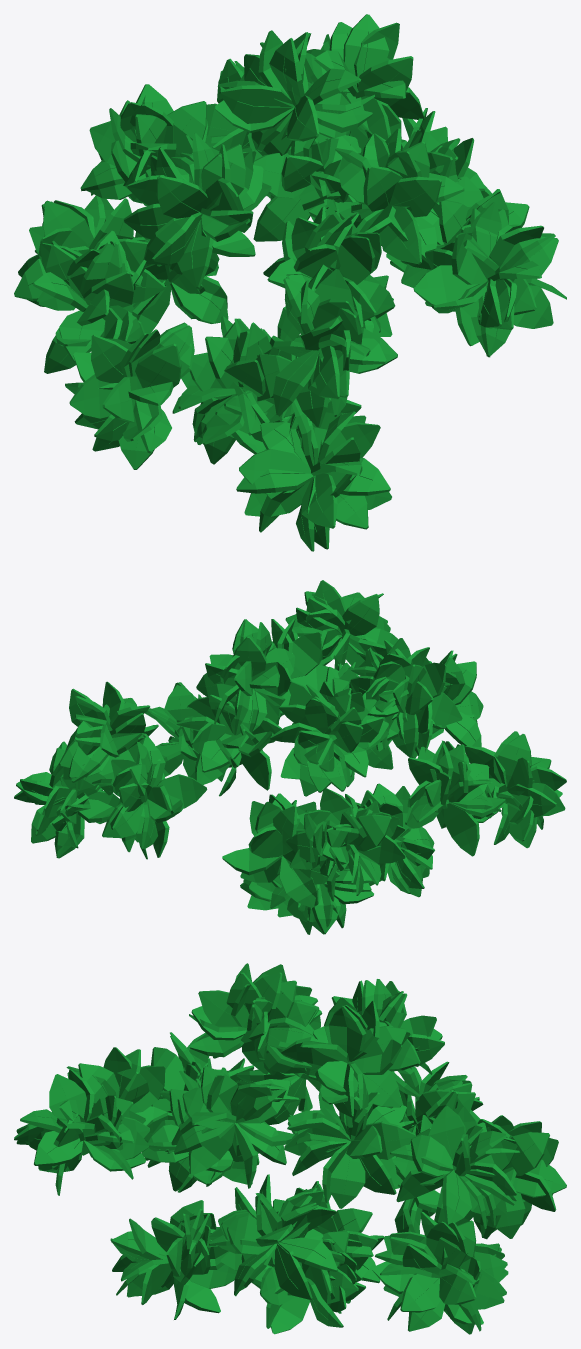
File: Arbol_2.glb
3 renders of one model, top to bottom at view 1: azimuth 30°, elevation 25°; view 2: azimuth 150°, elevation 25°; view 3: azimuth 270°, elevation 25°, orthographic. The views are drawn at different scales.
Parts seen in each view (by area): view 1: Plane.266, Plane.199, Plane.224, Plane.480, Plane.065, Plane.135, Plane.333, Plane.249, Plane.262, Plane.355, Plane.154, Plane.384 (+79 smaller); view 2: Plane.408, Plane.141, Plane.484, Plane.472, Plane.263, Plane.473, Plane.255, Plane.126, Plane.365, Plane.223, Plane.480, Plane.109 (+59 smaller); view 3: Plane.346, Plane.380, Plane.477, Plane.312, Plane.465, Plane.428, Plane.320, Plane.429, Plane.482, Plane.171, Plane.252, Plane.097 (+88 smaller).
Part boxes in pixels (x1=…): Plane.266: x1=219, y1=85, x2=292, y2=123; Plane.199: x1=156, y1=175, x2=207, y2=218; Plane.224: x1=253, y1=193, x2=309, y2=241; Plane.480: x1=273, y1=350, x2=318, y2=416; Plane.065: x1=343, y1=14, x2=389, y2=86; Plane.135: x1=380, y1=205, x2=421, y2=264; Plane.333: x1=135, y1=343, x2=181, y2=388; Plane.249: x1=389, y1=176, x2=441, y2=217; Plane.262: x1=413, y1=265, x2=478, y2=305; Plane.355: x1=301, y1=473, x2=337, y2=528; Plane.154: x1=338, y1=235, x2=375, y2=284; Plane.384: x1=239, y1=449, x2=311, y2=494; Plane.408: x1=444, y1=803, x2=479, y2=856; Plane.141: x1=342, y1=594, x2=379, y2=635; Plane.484: x1=290, y1=632, x2=322, y2=678; Plane.472: x1=157, y1=774, x2=207, y2=808; Plane.263: x1=222, y1=848, x2=282, y2=875; Plane.473: x1=279, y1=856, x2=317, y2=907; Plane.255: x1=102, y1=802, x2=144, y2=838; Plane.126: x1=355, y1=814, x2=391, y2=851; Plane.365: x1=248, y1=826, x2=283, y2=858; Plane.223: x1=498, y1=734, x2=531, y2=786; Plane.480: x1=445, y1=712, x2=481, y2=747; Plane.109: x1=164, y1=682, x2=197, y2=720; Plane.346: x1=330, y1=1151, x2=365, y2=1208; Plane.380: x1=400, y1=1274, x2=440, y2=1312; Plane.477: x1=274, y1=1242, x2=312, y2=1299; Plane.312: x1=504, y1=1132, x2=549, y2=1175; Plane.465: x1=277, y1=1237, x2=337, y2=1271; Plane.428: x1=442, y1=1170, x2=471, y2=1224; Plane.320: x1=410, y1=1135, x2=453, y2=1176; Plane.429: x1=428, y1=1106, x2=465, y2=1161; Plane.482: x1=188, y1=1125, x2=234, y2=1175; Plane.171: x1=34, y1=1131, x2=83, y2=1165; Plane.252: x1=49, y1=1074, x2=86, y2=1119; Plane.097: x1=198, y1=990, x2=238, y2=1026.
Bounding box in the file's own units: 8.31 × 5.74 × 8.47.
